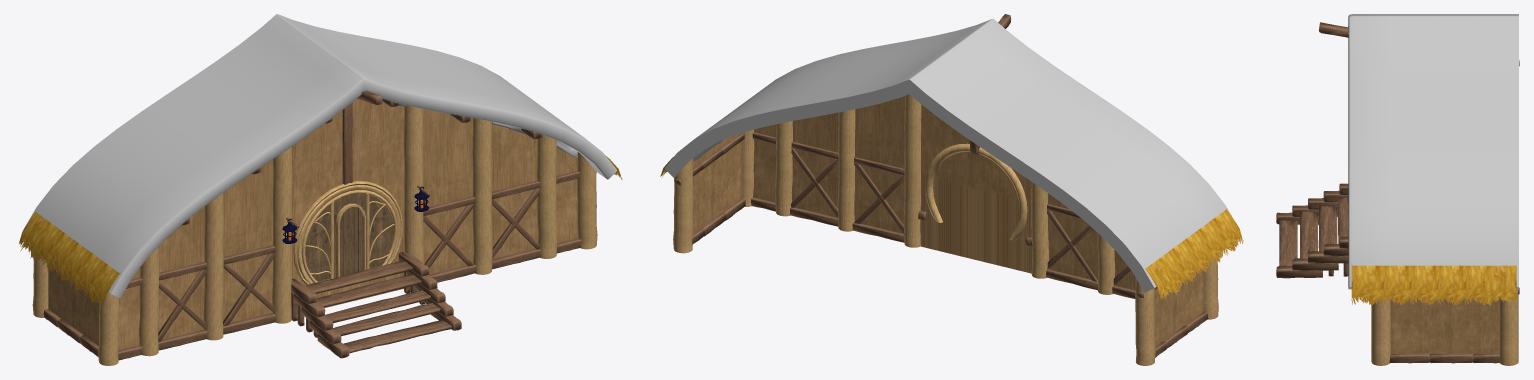
File: SM_front_house_entrance.fbx
The picture shows the model from 3 angles, left to right: view 1: azimuth 30°, elevation 25°; view 2: azimuth 150°, elevation 25°; view 3: azimuth 270°, elevation 25°; orthographic projection. The views are drawn at different scales.
Parts seen in each view (by area): view 1: front_house_entrance; view 2: front_house_entrance; view 3: front_house_entrance.
Part boxes in pixels (box(x1,y1,x2,y2)): front_house_entrance: box(19, 14, 622, 365); front_house_entrance: box(660, 14, 1243, 365); front_house_entrance: box(1276, 14, 1519, 365).
Bounding box in the file's own units: 1903 × 824 × 778.
